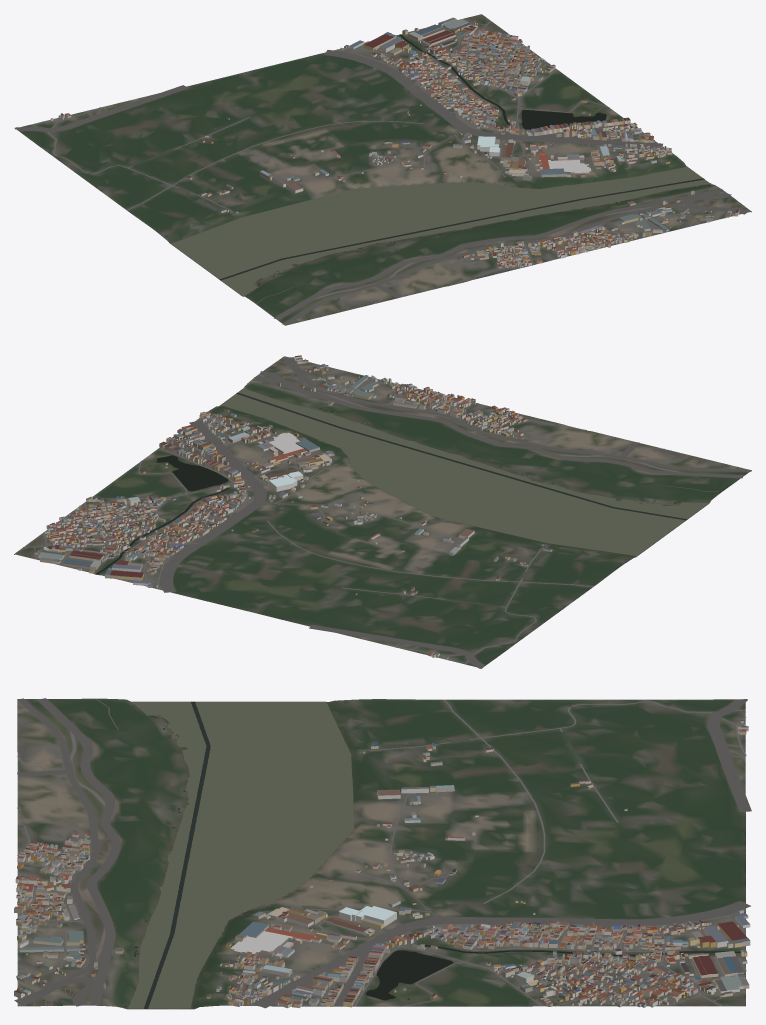
3 views of the same model, one above another, from view 1: azimuth 30°, elevation 25°; view 2: azimuth 150°, elevation 25°; view 3: azimuth 270°, elevation 25° (orthographic). The views are drawn at different scales.
Visible parts, largest first — view 1: ground, water, buildings, roads; view 2: ground, water, buildings, roads; view 3: ground, water, buildings, roads.
Boxes of the visible parts, box(x1,y1,x2,y2) form: ground: box(15, 14, 751, 325); water: box(171, 34, 711, 296); buildings: box(50, 17, 739, 268); roads: box(14, 20, 749, 325); ground: box(14, 356, 751, 666); water: box(95, 386, 708, 574); buildings: box(34, 355, 552, 659); roads: box(23, 357, 750, 668); ground: box(17, 698, 745, 1009); water: box(17, 701, 740, 1009); buildings: box(14, 720, 750, 1008); roads: box(14, 698, 751, 1008).
Bounding box in the file's own units: 1413 × 25.95 × 1421.
